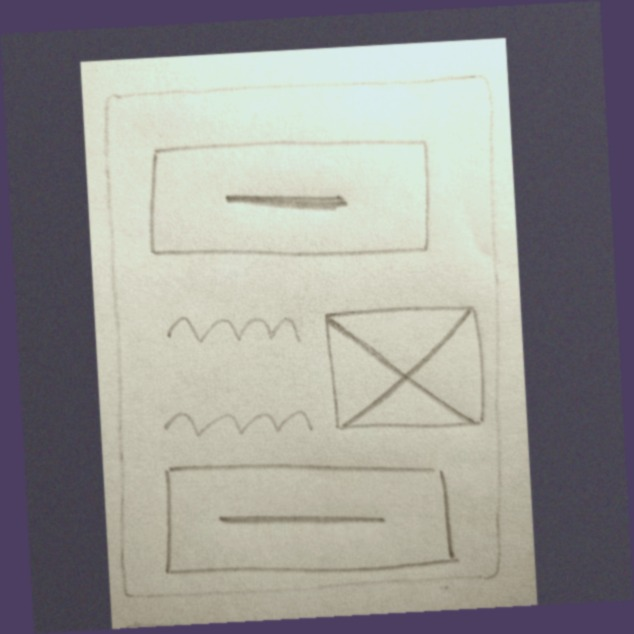button: (156, 438, 466, 590), (139, 121, 439, 274)
image: (316, 293, 492, 441)
text: (151, 296, 308, 363), (160, 396, 315, 453)
